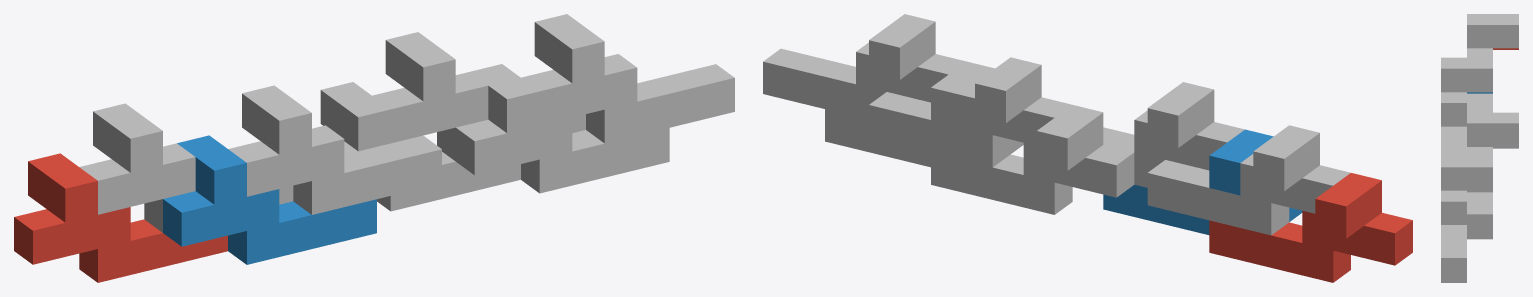
File: tiling.obj
3 renders of one model, left to right at view 1: azimuth 30°, elevation 25°; view 2: azimuth 150°, elevation 25°; view 3: azimuth 270°, elevation 25°, orthographic. The views are drawn at different scales.
Parts seen in each view (by area): view 1: copy_1_domain_8, copy_1_domain_4, copy_1_domain_6, copy_1_domain_2, copy_1_domain_1, copy_1_domain_7, copy_1_domain_3, copy_1_domain_5; view 2: copy_1_domain_5, copy_1_domain_1, copy_1_domain_3, copy_1_domain_7, copy_1_domain_8, copy_1_domain_4, copy_1_domain_6, copy_1_domain_2; view 3: copy_1_domain_8, copy_1_domain_4, copy_1_domain_7, copy_1_domain_3, copy_1_domain_5, copy_1_domain_6.
Part boxes in pixels (<box>): copy_1_domain_8: <box>521,14,734,143</box>; copy_1_domain_4: <box>228,85,441,214</box>; copy_1_domain_6: <box>455,64,669,193</box>; copy_1_domain_2: <box>163,135,376,264</box>; copy_1_domain_1: <box>14,153,227,282</box>; copy_1_domain_7: <box>372,32,585,160</box>; copy_1_domain_3: <box>79,103,293,232</box>; copy_1_domain_5: <box>320,82,520,211</box>; copy_1_domain_5: <box>931,105,1134,214</box>; copy_1_domain_1: <box>1209,173,1412,282</box>; copy_1_domain_3: <box>1147,125,1350,235</box>; copy_1_domain_7: <box>869,57,1071,167</box>; copy_1_domain_8: <box>763,14,966,119</box>; copy_1_domain_4: <box>1103,82,1244,187</box>; copy_1_domain_6: <box>825,61,1023,167</box>; copy_1_domain_2: <box>1103,129,1302,234</box>; copy_1_domain_8: <box>1441,156,1492,281</box>; copy_1_domain_4: <box>1441,57,1492,156</box>; copy_1_domain_7: <box>1467,112,1518,237</box>; copy_1_domain_3: <box>1467,14,1518,112</box>; copy_1_domain_5: <box>1467,147,1518,239</box>; copy_1_domain_6: <box>1441,190,1492,282</box>.
Bounding box in the file's own units: 21 × 4 × 3.
